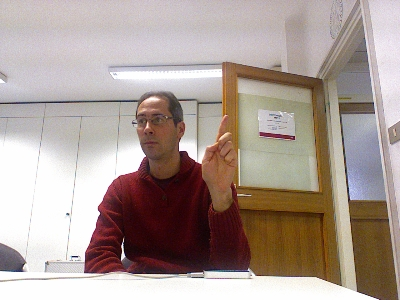食指: (200, 113, 238, 187)
